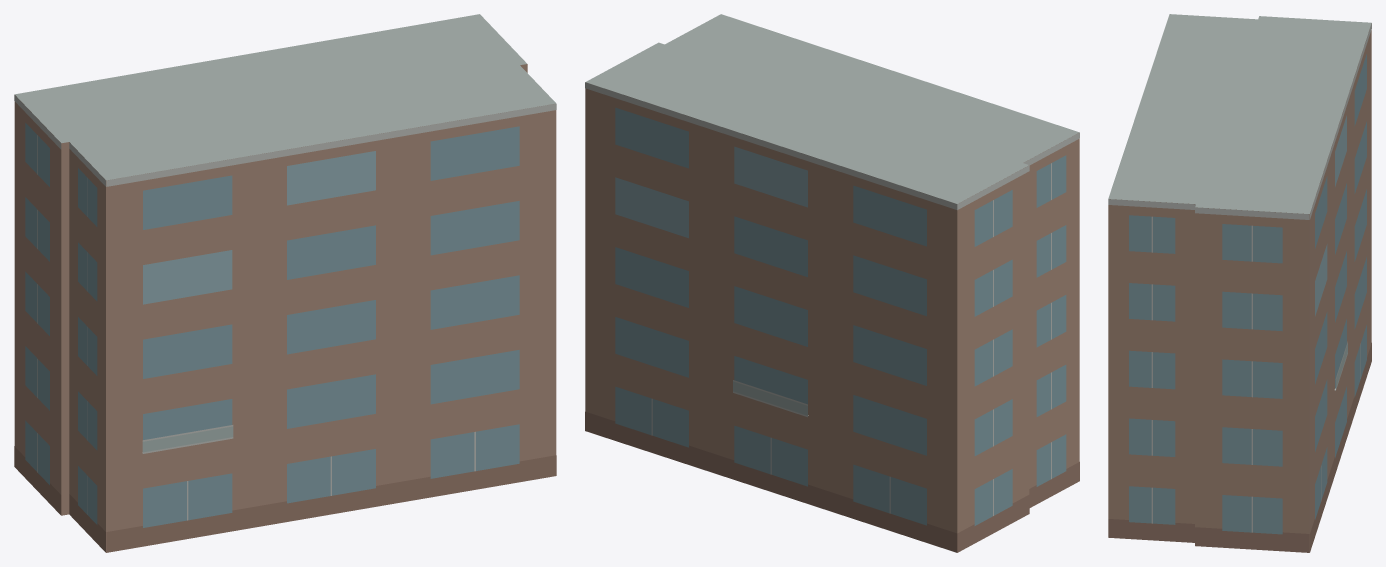
Rendered from survey-upis-32659424.glb.
3 views of the same model, side by side, from view 1: azimuth 30°, elevation 25°; view 2: azimuth 150°, elevation 25°; view 3: azimuth 270°, elevation 25° (orthographic). The views are drawn at different scales.
Visible parts, largest first — view 1: survey-upis-32659424.tmp; view 2: survey-upis-32659424.tmp; view 3: survey-upis-32659424.tmp.
Part boxes in pixels (bbox=[...]): survey-upis-32659424.tmp: bbox=[14, 14, 556, 552]; survey-upis-32659424.tmp: bbox=[585, 14, 1079, 552]; survey-upis-32659424.tmp: bbox=[1108, 14, 1371, 552].
Bounding box in the file's own units: 17.62 × 13.9 × 9.81.
